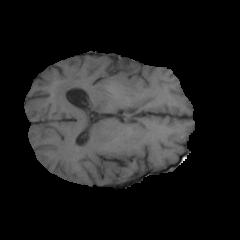glioma: (53, 58, 157, 113)
